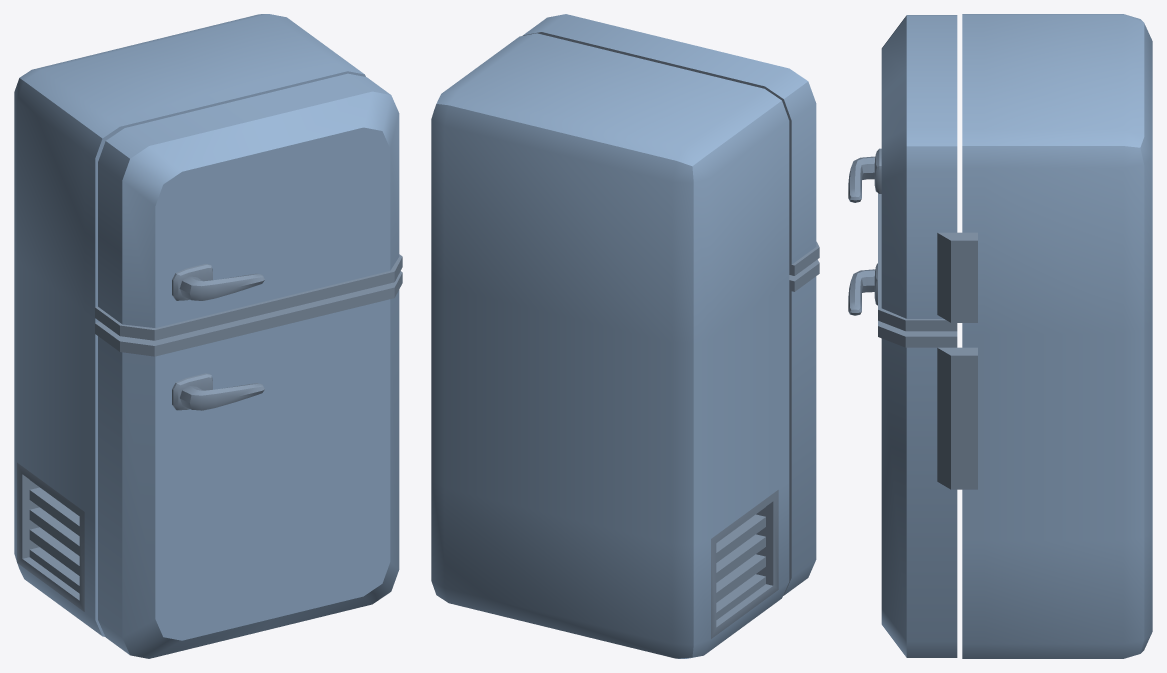
The model's file is Fridge.glb.
3 renders of one model, left to right at view 1: azimuth 30°, elevation 25°; view 2: azimuth 150°, elevation 25°; view 3: azimuth 270°, elevation 25°, orthographic. The views are drawn at different scales.
Visible parts, largest first — view 1: Environment_Fridge_Door, Environment_Fridge; view 2: Environment_Fridge, Environment_Fridge_Door; view 3: Environment_Fridge, Environment_Fridge_Door.
Part boxes in pixels (x1,y1,x2,y2): Environment_Fridge_Door: (95,73,402,658); Environment_Fridge: (14,14,365,636); Environment_Fridge: (431,33,789,658); Environment_Fridge_Door: (522,14,819,595); Environment_Fridge: (937,14,1152,658); Environment_Fridge_Door: (848,15,957,657).
Size of the model in its own units: 2.52 by 4.18 by 2.18.
Materials: 1 (1 with a texture image).
